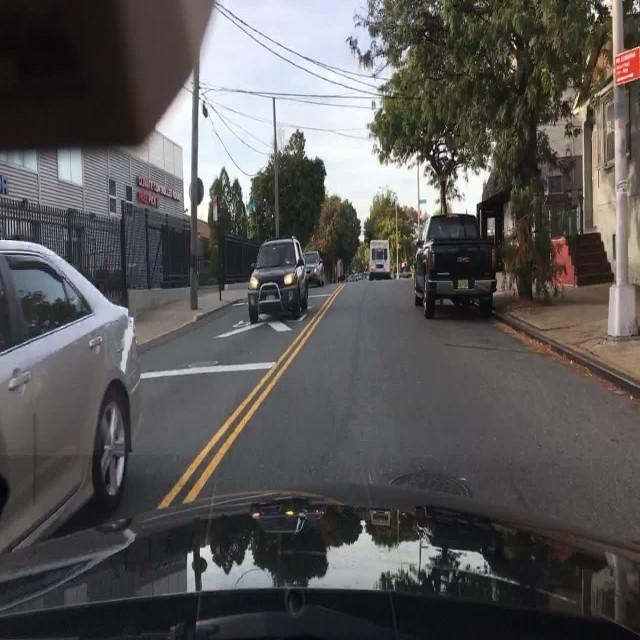normal: (0, 241, 138, 552), (410, 214, 495, 321), (247, 238, 309, 322), (302, 251, 325, 288)
